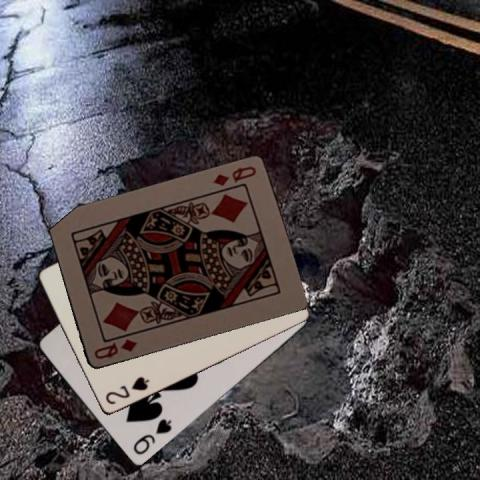2s: (102, 374, 151, 407)
9s: (130, 416, 173, 457)
Qd: (90, 336, 138, 361), (210, 163, 258, 188)
